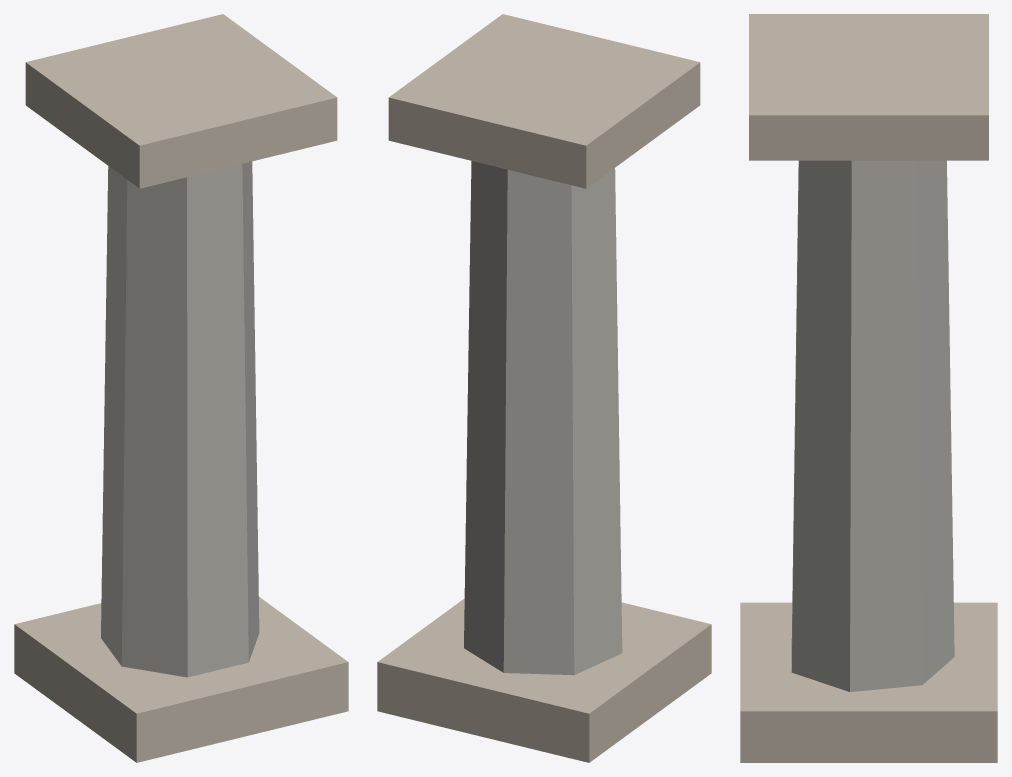
The model's file is column_v11.glb.
The picture shows the model from 3 angles, left to right: view 1: azimuth 30°, elevation 25°; view 2: azimuth 150°, elevation 25°; view 3: azimuth 270°, elevation 25°; orthographic projection. The views are drawn at different scales.
Parts seen in each view (by area): view 1: lod0; view 2: lod0; view 3: lod0.
Part boxes in pixels (x1=…): lod0: x1=14, y1=14, x2=348, y2=762; lod0: x1=377, y1=14, x2=711, y2=762; lod0: x1=740, y1=14, x2=997, y2=762.
Size of what is drawn, in the model's own units: 0.72 by 1.99 by 0.72.
